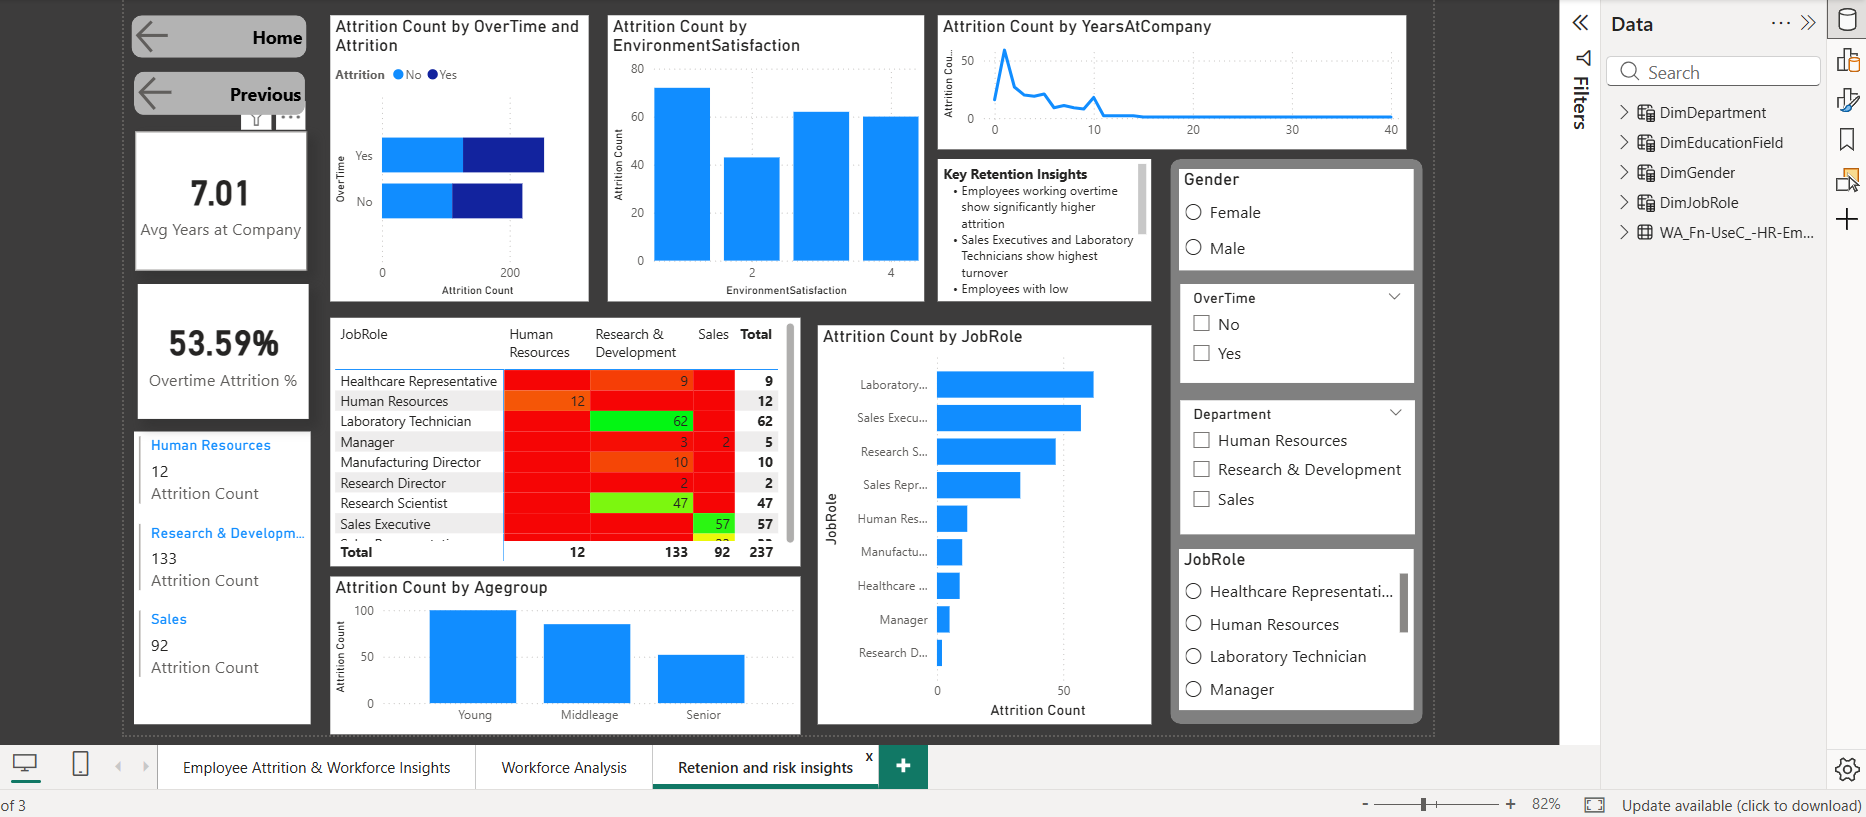

The dashboard page shown, as its layout file describes it:
{"tool":"powerbi","page":{"name":"Retenion and risk insights","canvas":[1280,720],"ordinal":2},"visuals":[{"type":"shape","box":[1023.5,156.5,247,552.7],"z":0},{"type":"multiRowCard","fields":{"Values":["WA_Fn-UseC_-HR-Employee-Attrition.Department","WA_Fn-UseC_-HR-Employee-Attrition.Attrition Count"]},"box":[9.8,423.1,172.4,286.1],"z":1000},{"type":"card","fields":{"Values":["WA_Fn-UseC_-HR-Employee-Attrition.Avg Years at Company"]},"box":[11,129.6,167.5,135.7],"z":2000},{"type":"card","fields":{"Values":["WA_Fn-UseC_-HR-Employee-Attrition.Overtime Attrition %"]},"box":[13.5,278.8,167.5,132.1],"z":3000},{"type":"columnChart","fields":{"Y":["WA_Fn-UseC_-HR-Employee-Attrition.Attrition Count"],"Category":["WA_Fn-UseC_-HR-Employee-Attrition.Agegroup"]},"box":[201.8,564.9,459.8,154.1],"z":4000},{"type":"lineChart","fields":{"Y":["WA_Fn-UseC_-HR-Employee-Attrition.Attrition Count"],"Category":["WA_Fn-UseC_-HR-Employee-Attrition.YearsAtCompany"]},"box":[796.1,15.9,458.6,130.8],"z":5000},{"type":"barChart","fields":{"Series":["WA_Fn-UseC_-HR-Employee-Attrition.Attrition"],"Y":["WA_Fn-UseC_-HR-Employee-Attrition.Attrition Count"],"Category":["WA_Fn-UseC_-HR-Employee-Attrition.OverTime"]},"box":[201.8,15.9,253.1,280],"z":6000},{"type":"clusteredColumnChart","fields":{"Category":["WA_Fn-UseC_-HR-Employee-Attrition.EnvironmentSatisfaction"],"Y":["WA_Fn-UseC_-HR-Employee-Attrition.Attrition Count"]},"box":[473.2,15.9,309.4,280],"z":7000},{"type":"barChart","fields":{"Y":["WA_Fn-UseC_-HR-Employee-Attrition.Attrition Count"],"Category":["WA_Fn-UseC_-HR-Employee-Attrition.JobRole"]},"box":[678.7,319.2,326.5,390.1],"z":8000},{"type":"pivotTable","fields":{"Values":["WA_Fn-UseC_-HR-Employee-Attrition.Attrition Count"],"Rows":["WA_Fn-UseC_-HR-Employee-Attrition.JobRole"],"Columns":["WA_Fn-UseC_-HR-Employee-Attrition.Department"]},"box":[201.8,311.8,459.8,243.3],"z":9000},{"type":"textbox","box":[796.1,156.5,209.1,139.4],"z":10000},{"type":"slicer","fields":{"Values":["WA_Fn-UseC_-HR-Employee-Attrition.Department"]},"box":[1033.3,392.5,229.9,130.8],"z":11000},{"type":"listSlicer","fields":{"Values":["WA_Fn-UseC_-HR-Employee-Attrition.Gender"]},"box":[1032.1,166.3,229.9,99],"z":12000},{"type":"listSlicer","fields":{"Values":["WA_Fn-UseC_-HR-Employee-Attrition.JobRole"]},"box":[1032.1,538,229.9,157.7],"z":13000},{"type":"slicer","fields":{"Values":["WA_Fn-UseC_-HR-Employee-Attrition.OverTime"]},"box":[1033.3,278.8,228.7,96.6],"z":14000},{"type":"actionButton","box":[7.3,15.9,171.2,41.6],"z":15000},{"type":"actionButton","box":[9.8,70.9,167.5,42.8],"z":16000}]}

Visuals, with their boxes on the page's 1280x720 design canvas (x1, y1, x2, y2). These are canvas units, not pixel positions in the 1866x817 screenshot, which may show the page scaled, cropped or inside an application window:
shape: l=1024, t=156, r=1270, b=709
multiRowCard - WA_Fn-UseC_-HR-Employee-Attrition.Department x WA_Fn-UseC_-HR-Employee-Attrition.Attrition Count: l=10, t=423, r=182, b=709
card - WA_Fn-UseC_-HR-Employee-Attrition.Avg Years at Company: l=11, t=130, r=178, b=265
card - WA_Fn-UseC_-HR-Employee-Attrition.Overtime Attrition %: l=14, t=279, r=181, b=411
columnChart - WA_Fn-UseC_-HR-Employee-Attrition.Attrition Count x WA_Fn-UseC_-HR-Employee-Attrition.Agegroup: l=202, t=565, r=662, b=719
lineChart - WA_Fn-UseC_-HR-Employee-Attrition.Attrition Count x WA_Fn-UseC_-HR-Employee-Attrition.YearsAtCompany: l=796, t=16, r=1255, b=147
barChart - WA_Fn-UseC_-HR-Employee-Attrition.Attrition x WA_Fn-UseC_-HR-Employee-Attrition.Attrition Count: l=202, t=16, r=455, b=296
clusteredColumnChart - WA_Fn-UseC_-HR-Employee-Attrition.EnvironmentSatisfaction x WA_Fn-UseC_-HR-Employee-Attrition.Attrition Count: l=473, t=16, r=783, b=296
barChart - WA_Fn-UseC_-HR-Employee-Attrition.Attrition Count x WA_Fn-UseC_-HR-Employee-Attrition.JobRole: l=679, t=319, r=1005, b=709
pivotTable - WA_Fn-UseC_-HR-Employee-Attrition.Attrition Count x WA_Fn-UseC_-HR-Employee-Attrition.JobRole: l=202, t=312, r=662, b=555
textbox: l=796, t=156, r=1005, b=296
slicer - WA_Fn-UseC_-HR-Employee-Attrition.Department: l=1033, t=392, r=1263, b=523
listSlicer - WA_Fn-UseC_-HR-Employee-Attrition.Gender: l=1032, t=166, r=1262, b=265
listSlicer - WA_Fn-UseC_-HR-Employee-Attrition.JobRole: l=1032, t=538, r=1262, b=696
slicer - WA_Fn-UseC_-HR-Employee-Attrition.OverTime: l=1033, t=279, r=1262, b=375
actionButton: l=7, t=16, r=178, b=58
actionButton: l=10, t=71, r=177, b=114
